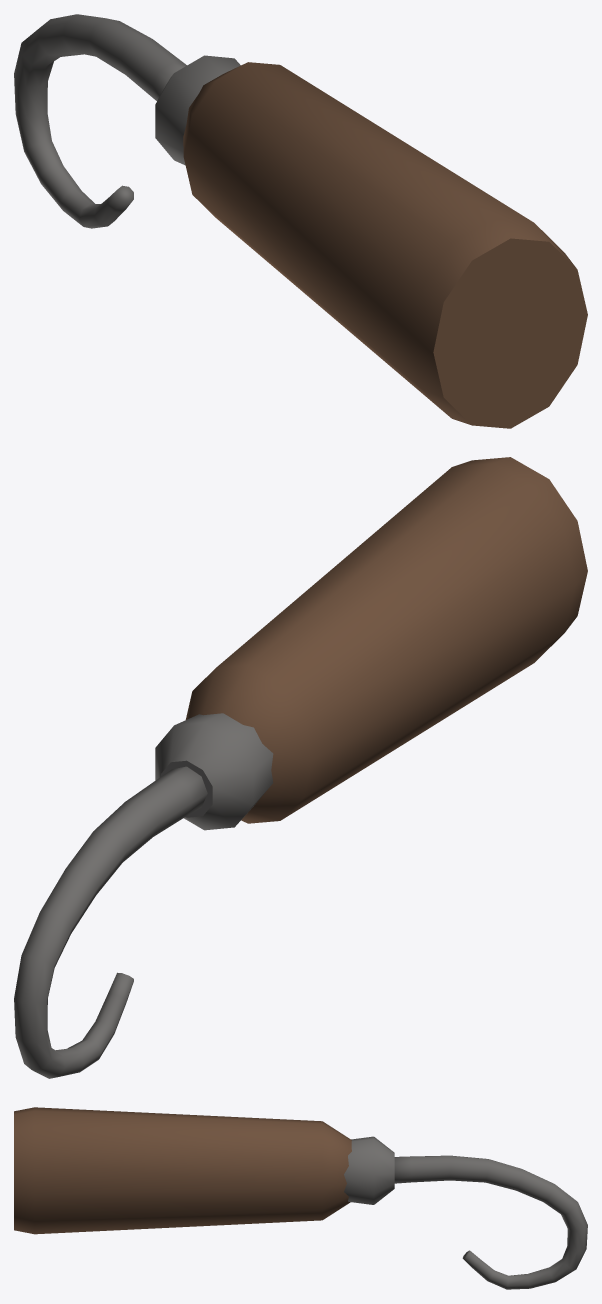
File: hook-hand.glb
3 views of the same model, one above another, from view 1: azimuth 30°, elevation 25°; view 2: azimuth 150°, elevation 25°; view 3: azimuth 270°, elevation 25° (orthographic). The views are drawn at different scales.
Parts seen in each view (by area): view 1: hook-hand; view 2: hook-hand; view 3: hook-hand.
Part boxes in pixels (bbox=[...]): hook-hand: bbox=[14, 14, 587, 428]; hook-hand: bbox=[14, 457, 587, 1078]; hook-hand: bbox=[14, 1107, 587, 1289].
Bounding box in the file's own units: 0.1088 × 0.1912 × 0.5581.
